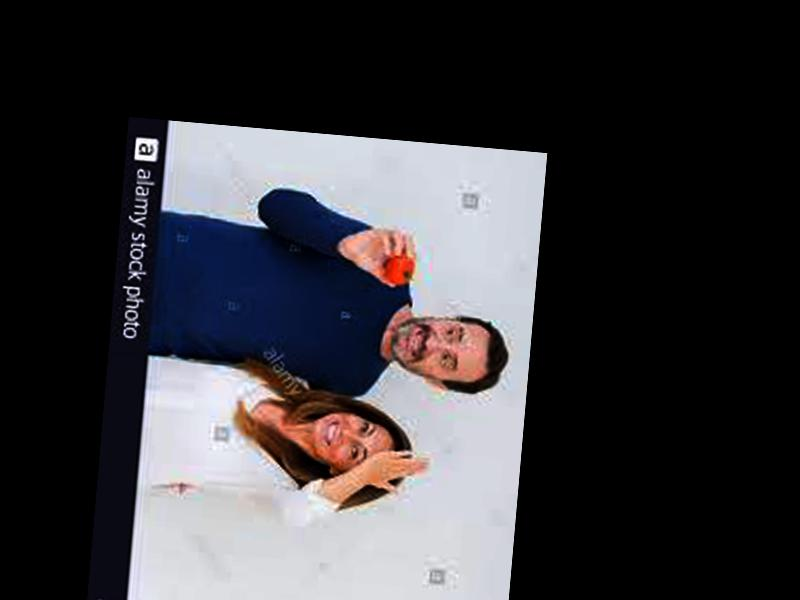Tomato: (385, 255, 417, 285)
